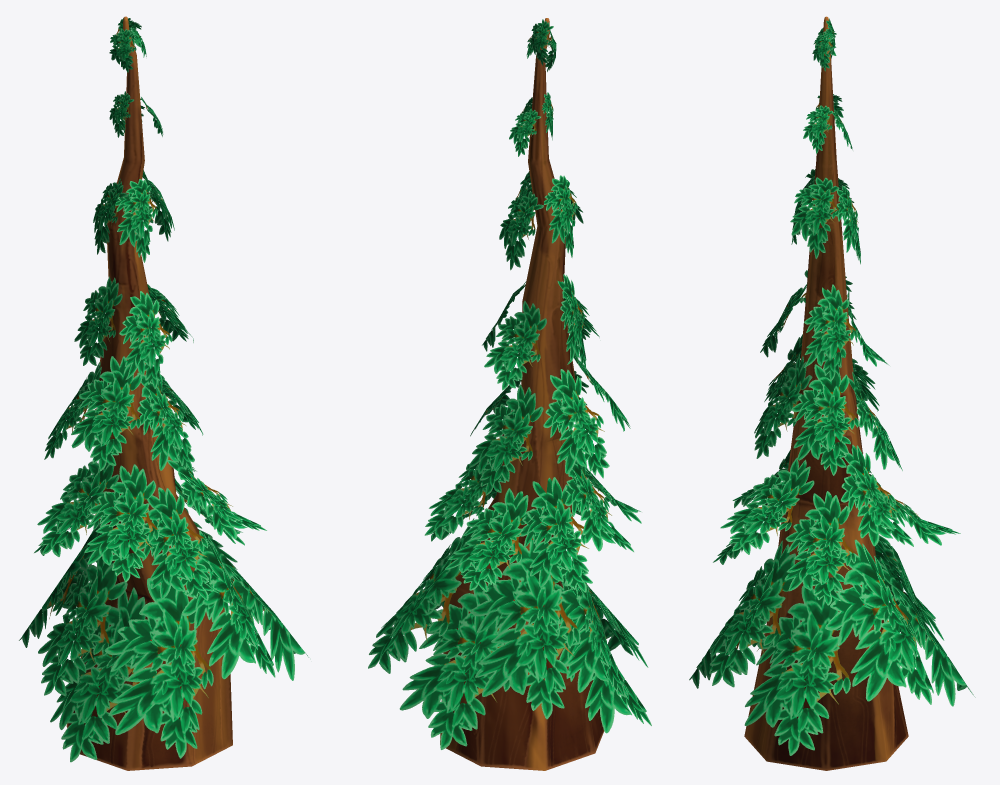
File: 7_Verde_Oscuro.fbx
The picture shows the model from 3 angles, left to right: view 1: azimuth 30°, elevation 25°; view 2: azimuth 150°, elevation 25°; view 3: azimuth 270°, elevation 25°; orthographic projection. The views are drawn at different scales.
Visible parts, largest first — view 1: 7_Verde_Oscuro_LOD_0; view 2: 7_Verde_Oscuro_LOD_0; view 3: 7_Verde_Oscuro_LOD_0.
Part boxes in pixels (x1=…): 7_Verde_Oscuro_LOD_0: x1=19, y1=16, x2=308, y2=770; 7_Verde_Oscuro_LOD_0: x1=368, y1=18, x2=651, y2=770; 7_Verde_Oscuro_LOD_0: x1=689, y1=16, x2=975, y2=770.
Size of the model in its own units: 411 by 1081 by 415.
